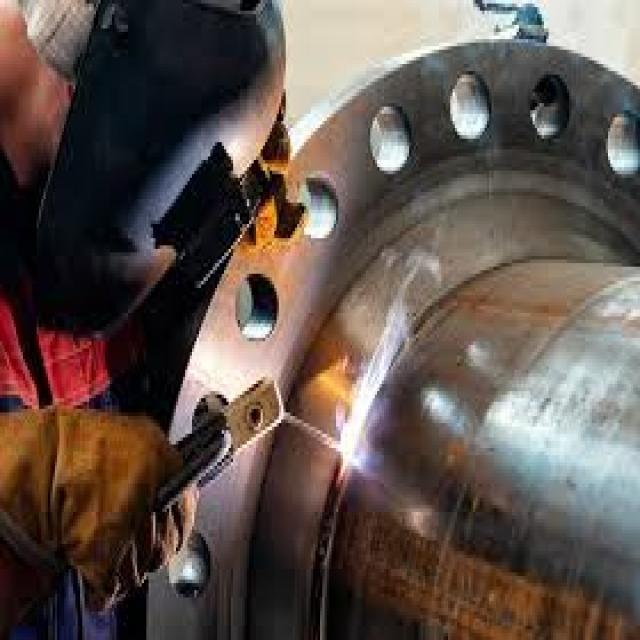welding: (340, 421, 356, 459)
